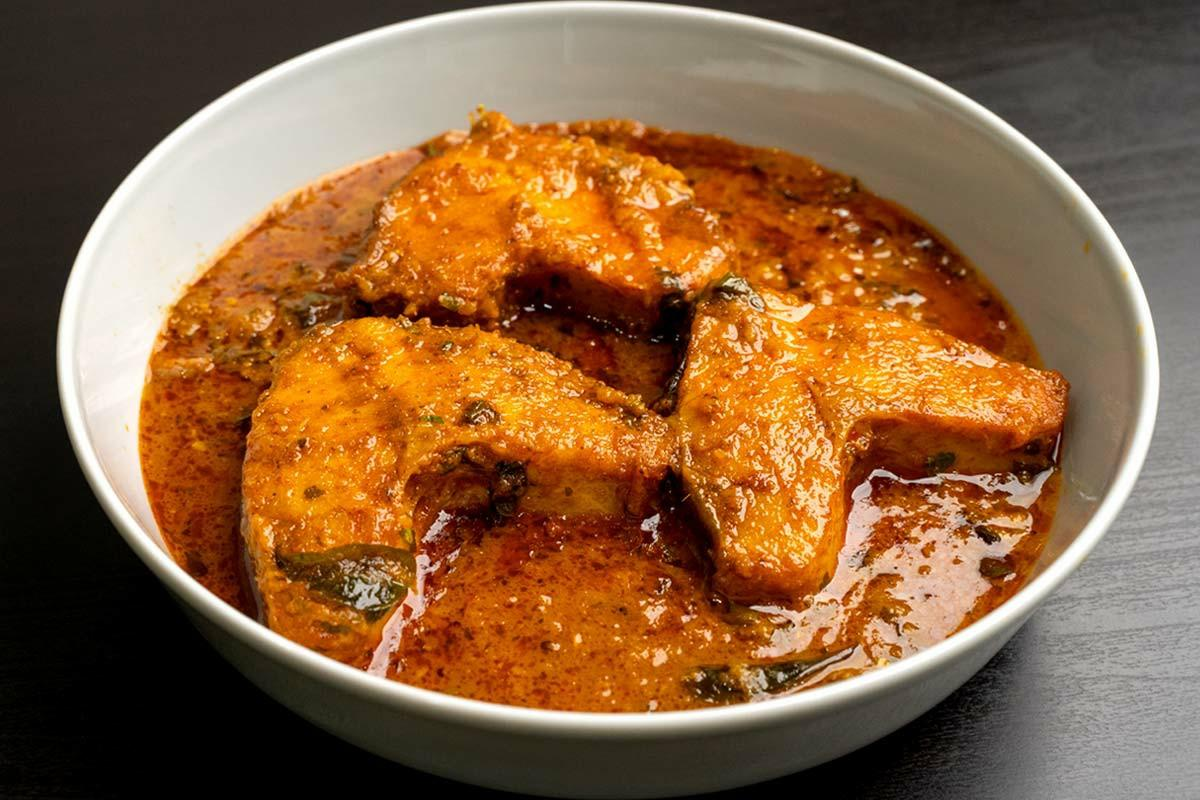FishCurry: (134, 106, 1082, 703)
